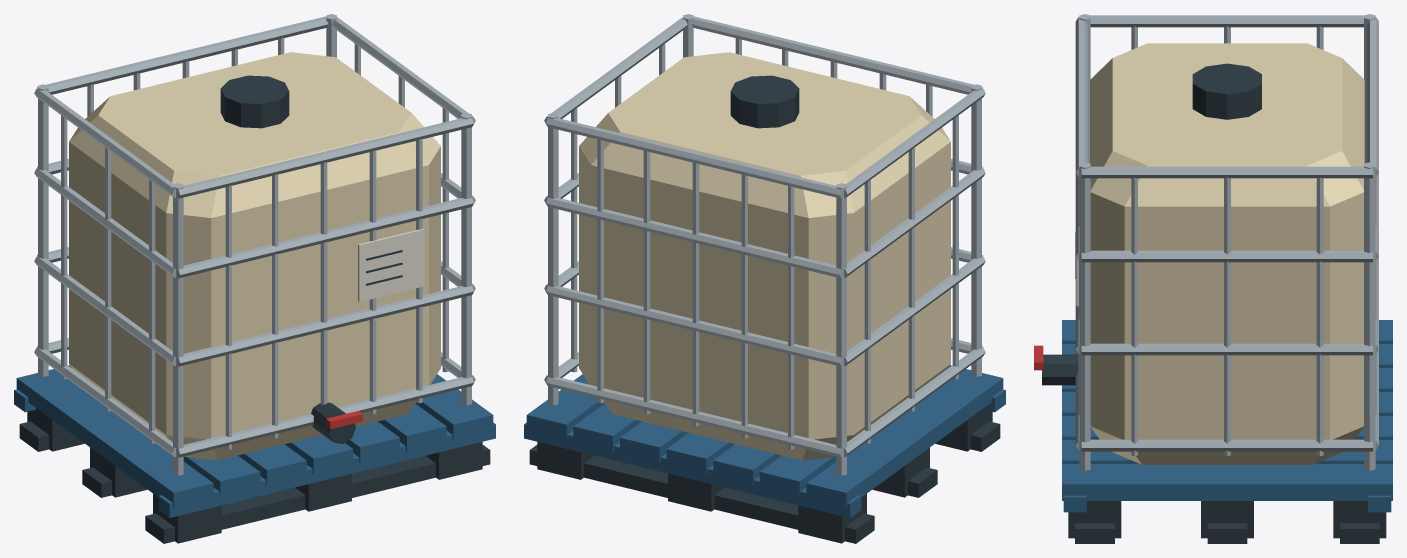
The model's file is b14_ibc_tote_with_valve.glb.
The picture shows the model from 3 angles, left to right: view 1: azimuth 30°, elevation 25°; view 2: azimuth 150°, elevation 25°; view 3: azimuth 270°, elevation 25°; orthographic projection. The views are drawn at different scales.
Visible parts, largest first — view 1: b14_ibc_tote_with_valve; view 2: b14_ibc_tote_with_valve; view 3: b14_ibc_tote_with_valve.
Boxes of the visible parts, x1,y1,x2,y2 form: b14_ibc_tote_with_valve: (14,14,495,543); b14_ibc_tote_with_valve: (524,14,1005,543); b14_ibc_tote_with_valve: (1034,14,1392,543).
Bounding box in the file's own units: 1.2 × 1.27 × 1.08.
